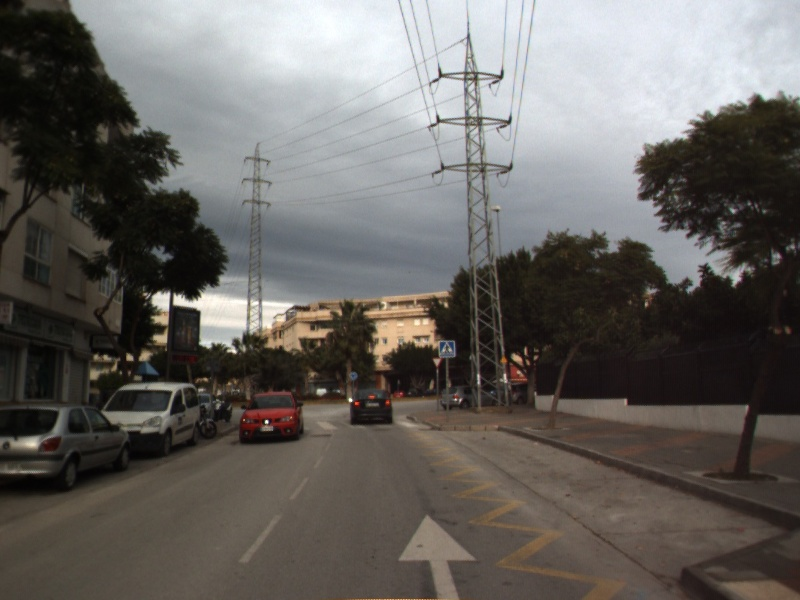STRAIGHT: (395, 509, 482, 600)
